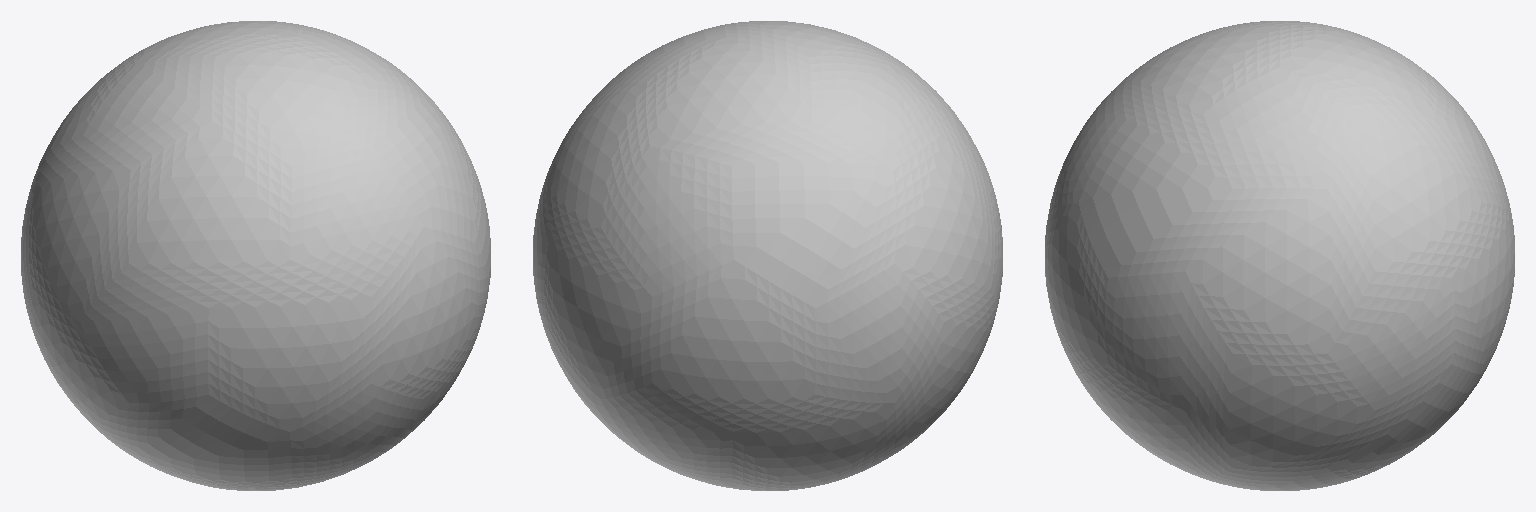
Rendered from completed ball.obj.
3 renders of one model, left to right at view 1: azimuth 30°, elevation 25°; view 2: azimuth 150°, elevation 25°; view 3: azimuth 270°, elevation 25°, orthographic.
Parts seen in each view (by area): view 1: Solid; view 2: Solid; view 3: Solid.
Part boxes in pixels (left/top/right/bottom): Solid: left=21, top=21, right=490, bottom=490; Solid: left=533, top=21, right=1002, bottom=490; Solid: left=1045, top=21, right=1514, bottom=490.
Size of the model in its own units: 1.68 by 1.68 by 1.68.